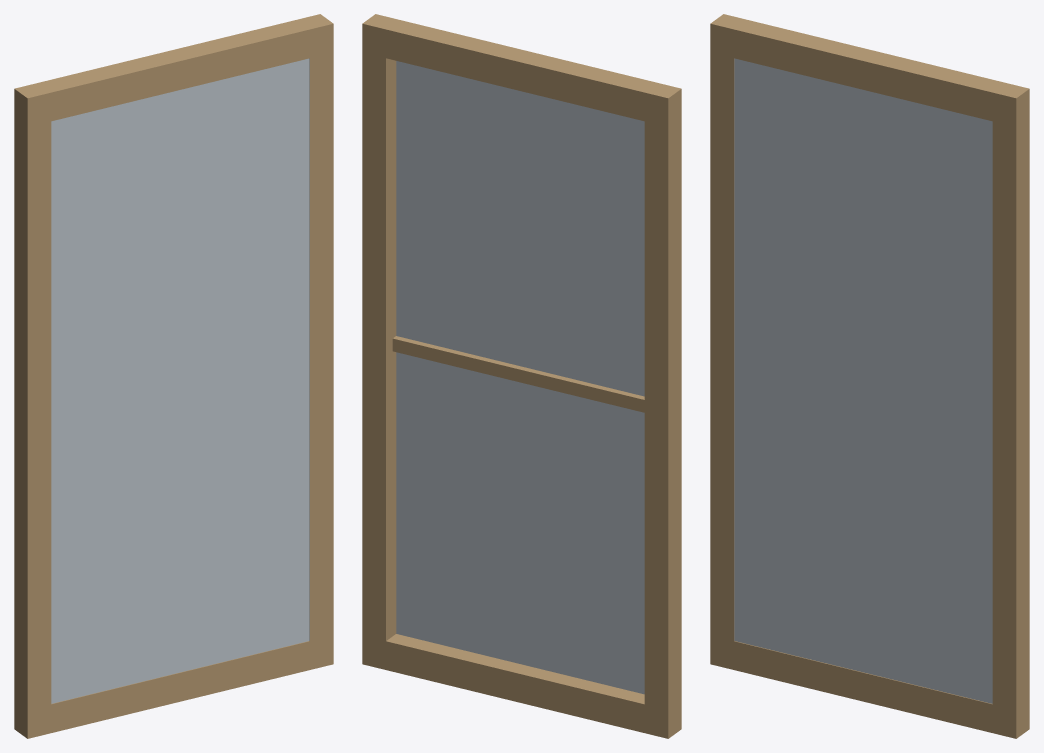
File: soc_wall_glass.fbx
3 renders of one model, left to right at view 1: azimuth 30°, elevation 25°; view 2: azimuth 150°, elevation 25°; view 3: azimuth 330°, elevation 25°, orthographic.
Parts seen in each view (by area): view 1: glass_1, trim_1; view 2: glass_1, trim_1; view 3: glass_1, trim_1.
Part boxes in pixels (<box>): glass_1: <box>51,58,309,703</box>; trim_1: <box>14,14,333,738</box>; glass_1: <box>396,61,644,694</box>; trim_1: <box>362,14,681,738</box>; glass_1: <box>734,58,992,703</box>; trim_1: <box>710,14,1029,738</box>.
Size of the model in its own units: 0.8 by 1.6 by 0.06.
